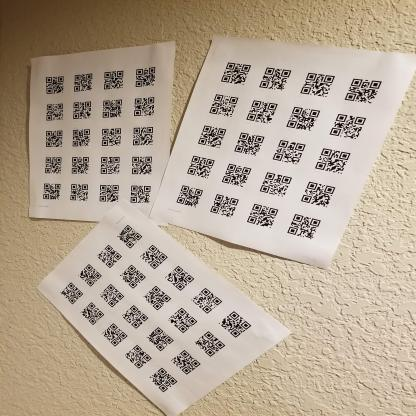qr: (324, 109, 368, 142), (293, 181, 343, 209), (309, 144, 353, 175), (301, 64, 337, 100), (253, 167, 295, 197), (282, 210, 321, 242), (241, 97, 281, 128), (230, 126, 268, 158), (267, 136, 310, 164), (218, 307, 254, 340), (345, 74, 383, 105), (254, 61, 292, 91), (190, 285, 226, 316), (169, 345, 204, 376), (284, 105, 324, 132), (193, 117, 229, 147), (208, 89, 242, 119), (244, 200, 281, 227), (164, 263, 196, 293), (194, 327, 227, 356), (205, 192, 241, 218), (114, 219, 145, 249), (121, 301, 153, 330), (183, 153, 216, 181), (167, 306, 200, 334), (150, 368, 184, 395), (218, 162, 253, 188), (147, 324, 178, 353), (172, 183, 206, 209), (221, 60, 251, 87), (139, 242, 169, 269), (144, 281, 171, 310), (95, 244, 125, 268), (99, 321, 127, 346), (77, 263, 104, 288), (120, 264, 146, 289), (100, 281, 125, 307), (59, 281, 85, 305), (125, 344, 150, 368), (81, 302, 107, 323), (69, 182, 93, 204), (130, 181, 152, 205), (102, 96, 123, 121), (130, 124, 155, 145), (100, 153, 121, 178), (42, 74, 65, 96), (71, 70, 94, 92), (44, 126, 66, 149), (102, 68, 123, 91), (100, 126, 123, 147), (99, 182, 120, 205), (130, 155, 154, 175), (134, 95, 156, 116), (41, 181, 63, 202), (72, 98, 92, 121), (44, 153, 64, 175), (135, 66, 155, 87), (43, 101, 65, 120), (71, 128, 91, 147), (71, 155, 90, 175)
